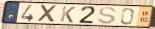0: (119, 7, 135, 25)
2: (78, 5, 97, 25)
4: (20, 4, 35, 23)
K: (59, 5, 77, 24)
S: (97, 6, 118, 25)
X: (37, 4, 59, 24)
